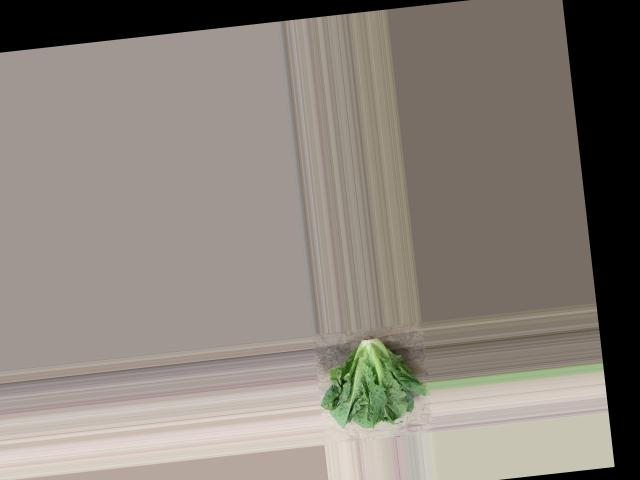lettuce: (316, 325, 430, 435)
